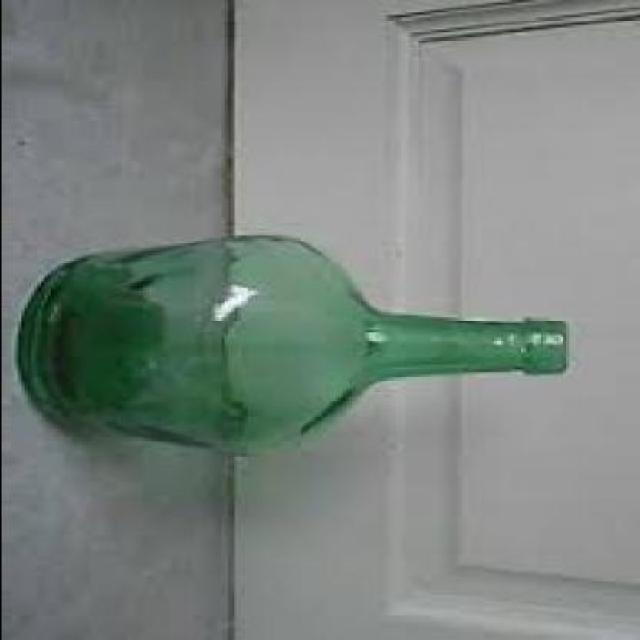GLASS: (20, 233, 568, 452)
